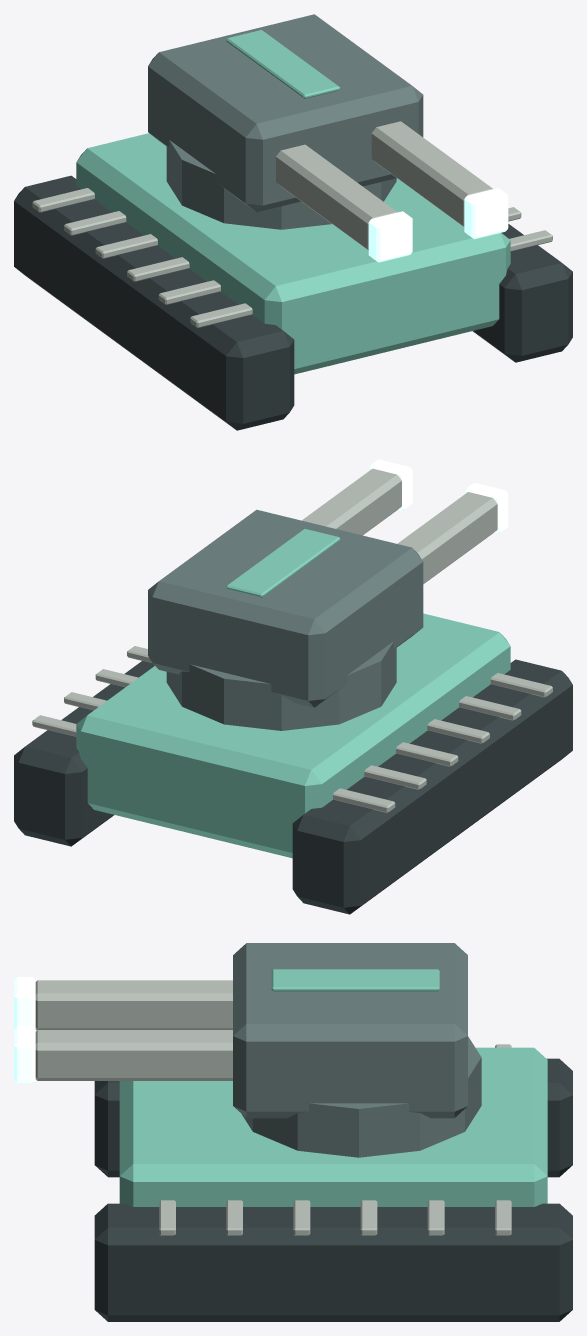
File: breaker.glb
3 renders of one model, top to bottom at view 1: azimuth 30°, elevation 25°; view 2: azimuth 150°, elevation 25°; view 3: azimuth 270°, elevation 25°, orthographic. The views are drawn at different scales.
Parts seen in each view (by area): view 1: Chassis, turret, Track, Track.001, Cannon.001, Cannon, Turret_base, Team_stripe, Muzzle, Muzzle.001, Tread.003, Tread.004 (+5 smaller); view 2: Chassis, turret, Track, Turret_base, Track.001, Cannon, Cannon.001, Team_stripe, Muzzle, Muzzle.001, Tread.001, Tread (+5 smaller); view 3: Track.001, Chassis, turret, Cannon.001, Cannon, Turret_base, Track, Team_stripe, Muzzle.001, Muzzle, Tread.010, Tread.008 (+4 smaller).
Boxes of the visible parts, x1,y1,x2,y2 form: Chassis: [76, 133, 510, 374]; turret: [148, 14, 423, 212]; Track: [14, 175, 294, 430]; Track.001: [472, 224, 572, 362]; Cannon.001: [371, 121, 492, 226]; Cannon: [276, 144, 397, 250]; Turret_base: [166, 140, 396, 229]; Team_stripe: [226, 30, 340, 98]; Muzzle: [368, 211, 412, 262]; Muzzle.001: [464, 188, 508, 239]; Tread.003: [95, 234, 157, 258]; Tread.004: [64, 211, 126, 235]; Chassis: [76, 613, 510, 858]; turret: [148, 509, 423, 707]; Track: [292, 659, 572, 914]; Turret_base: [166, 641, 396, 730]; Track.001: [14, 660, 154, 846]; Cannon: [397, 492, 497, 583]; Cannon.001: [302, 468, 401, 535]; Team_stripe: [226, 529, 340, 597]; Muzzle: [464, 482, 508, 533]; Muzzle.001: [368, 459, 412, 510]; Tread.001: [459, 696, 521, 720]; Tread: [490, 673, 552, 697]; Track.001: [94, 1203, 572, 1321]; Chassis: [119, 1047, 547, 1206]; turret: [233, 943, 467, 1118]; Cannon.001: [35, 1030, 232, 1080]; Cannon: [35, 980, 232, 1030]; Turret_base: [242, 1036, 481, 1157]; Track: [94, 1058, 572, 1177]; Team_stripe: [271, 969, 439, 991]; Muzzle.001: [14, 1026, 35, 1083]; Muzzle: [14, 977, 35, 1029]; Tread.010: [427, 1200, 444, 1235]; Tread.008: [293, 1200, 310, 1235].
Bounding box in the file's own units: 2.61 × 1.71 × 3.33.
